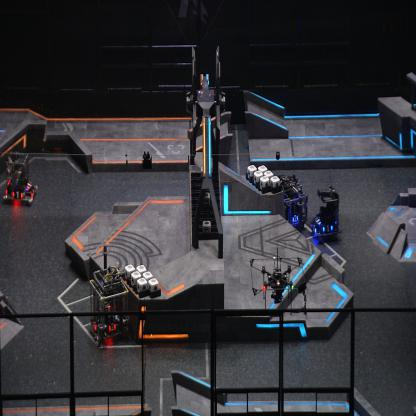car: (89, 268, 132, 344), (3, 151, 39, 207), (309, 184, 342, 242), (275, 172, 309, 228)
